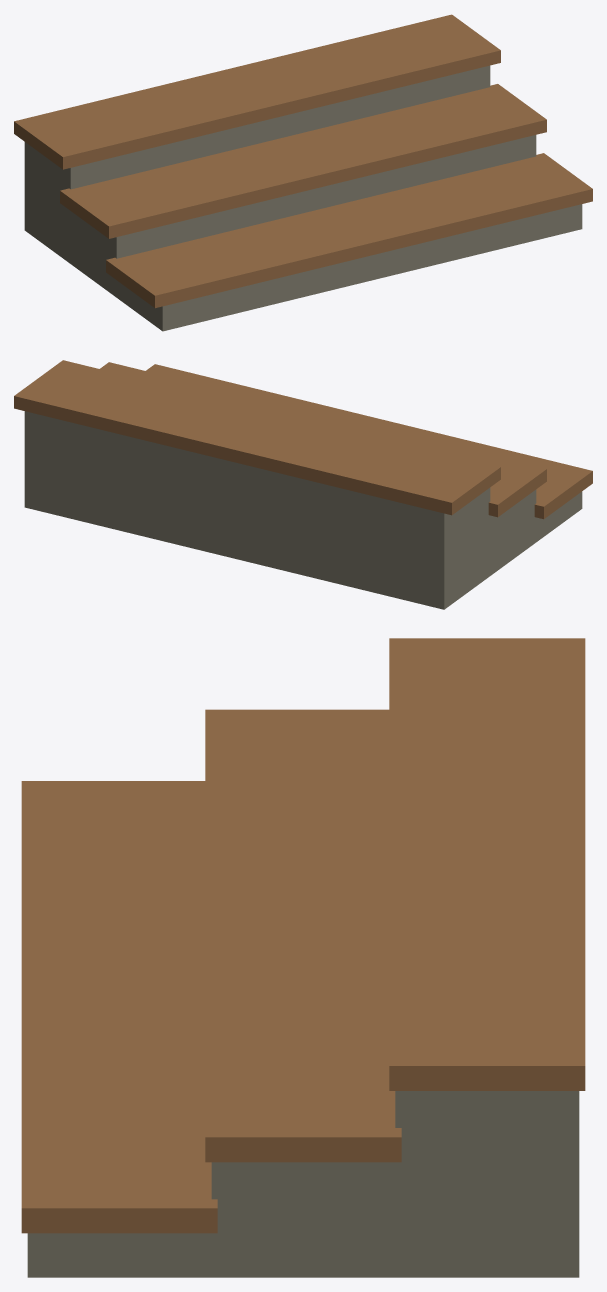
Rendered from gable_porch_site.glb.
3 renders of one model, top to bottom at view 1: azimuth 30°, elevation 25°; view 2: azimuth 150°, elevation 25°; view 3: azimuth 270°, elevation 25°, orthographic. The views are drawn at different scales.
Visible parts, largest first — view 1: KitGablePorchSiteDetails; view 2: KitGablePorchSiteDetails; view 3: KitGablePorchSiteDetails.
Part boxes in pixels (x1,y1,x2,y2): KitGablePorchSiteDetails: (14, 14, 592, 331); KitGablePorchSiteDetails: (14, 360, 592, 609); KitGablePorchSiteDetails: (21, 638, 585, 1277).
Bounding box in the file's own units: 1.65 × 0.3972 × 0.92.
